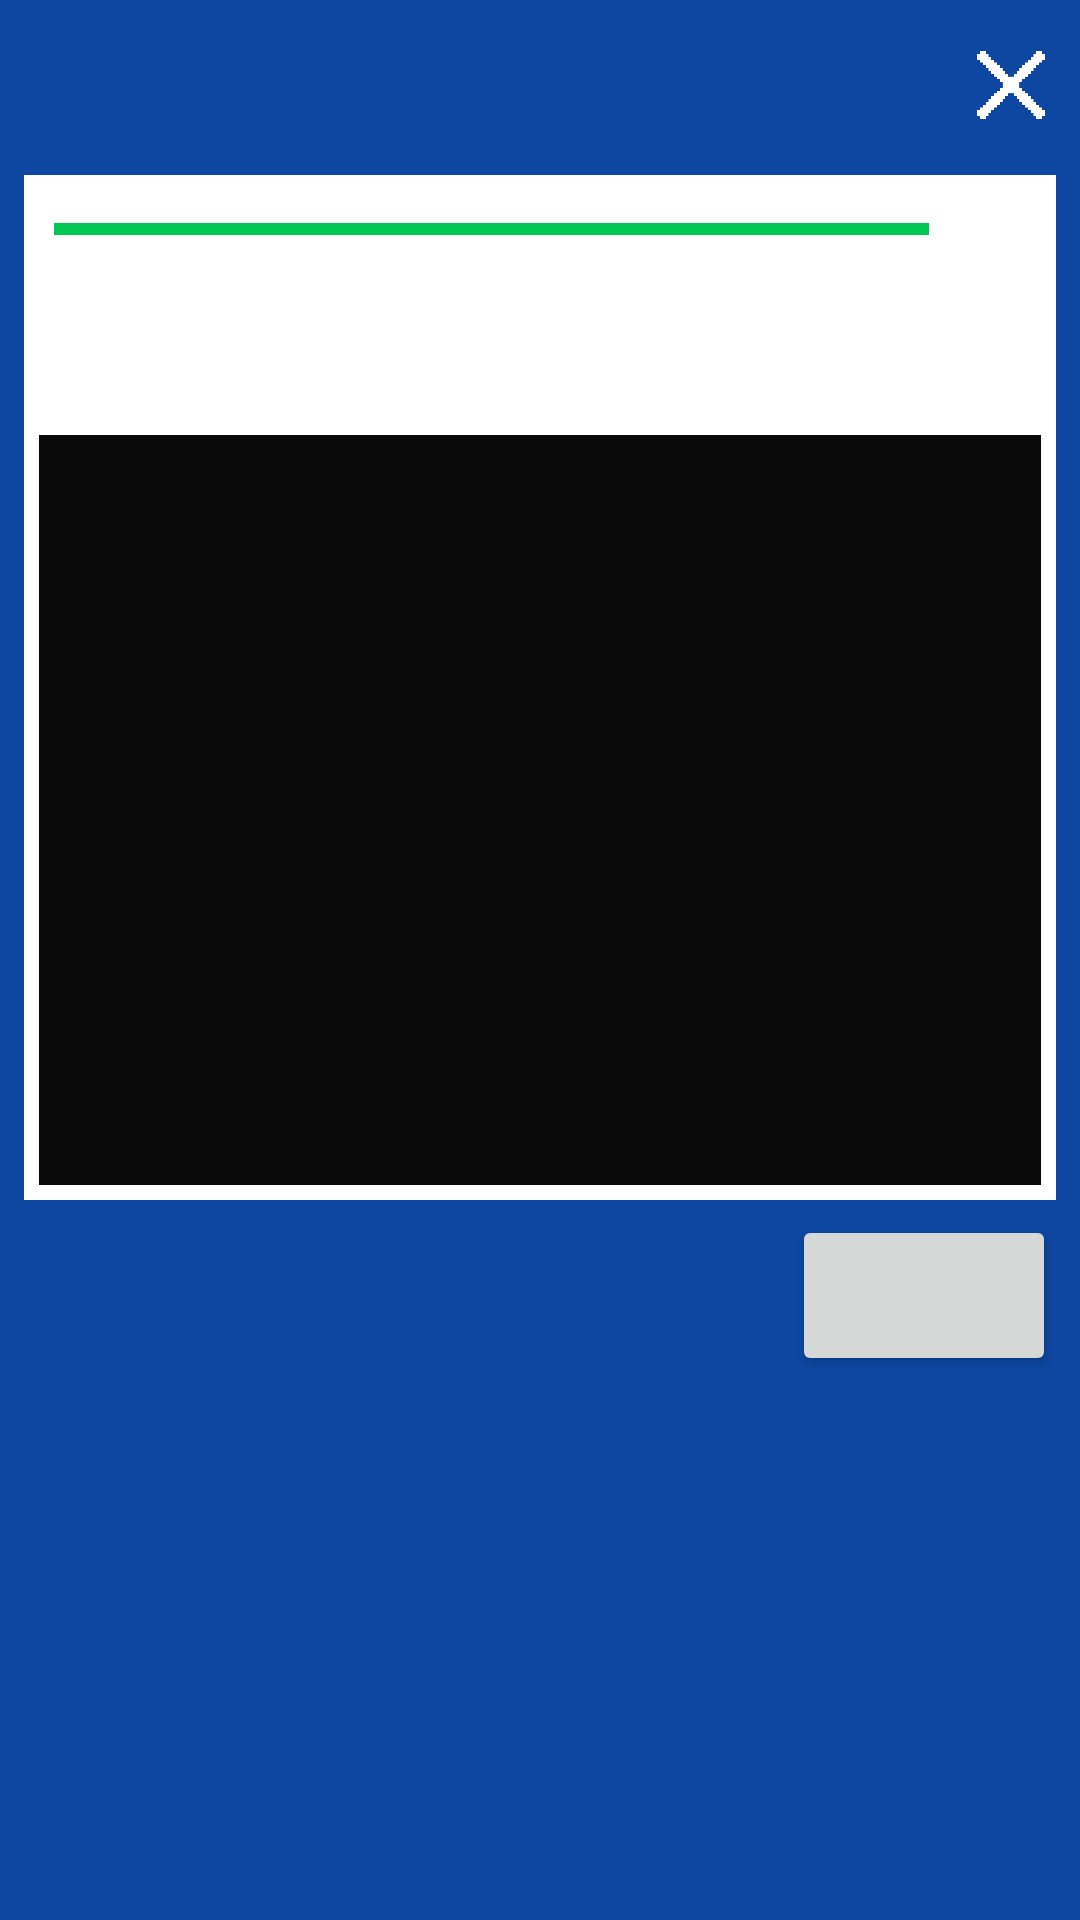

Point at icon controls on the screen. Image size 1080 × 1920, points as (x=x, y=y).
close: (x=1011, y=85)
